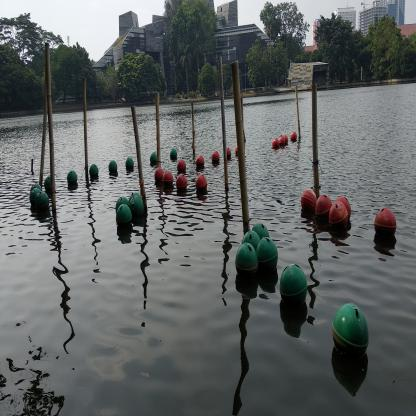green_buoy: (333, 300, 371, 367), (281, 264, 308, 310), (236, 243, 260, 287), (258, 238, 278, 278), (115, 204, 132, 233), (131, 196, 144, 222), (28, 185, 41, 211), (37, 192, 50, 217), (242, 232, 260, 250), (66, 168, 78, 191), (107, 158, 118, 178), (89, 162, 99, 181), (125, 156, 134, 172), (150, 152, 157, 168), (170, 148, 177, 162), (117, 196, 128, 204)
red_buoy: (328, 202, 351, 238), (374, 209, 398, 240), (314, 192, 332, 233), (301, 186, 318, 224), (176, 173, 190, 194), (196, 173, 209, 195), (154, 164, 164, 188), (163, 171, 175, 189), (176, 157, 187, 175), (194, 156, 206, 170), (210, 150, 221, 165), (271, 134, 279, 150), (226, 145, 233, 161), (289, 130, 297, 142), (278, 136, 286, 147)
